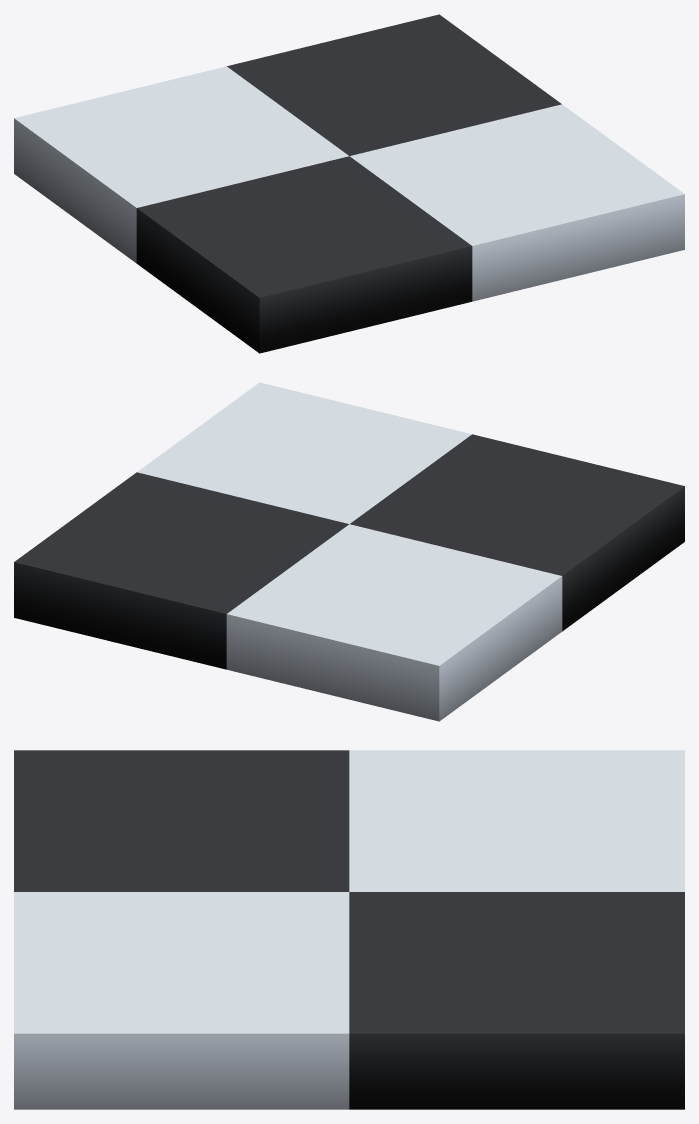
File: 2m_Floor_Checker_bw_Laundromat.fbx
3 renders of one model, top to bottom at view 1: azimuth 30°, elevation 25°; view 2: azimuth 150°, elevation 25°; view 3: azimuth 270°, elevation 25°, orthographic. The views are drawn at different scales.
Parts seen in each view (by area): view 1: 2m_Floor_Checker_bw.Laundromat; view 2: 2m_Floor_Checker_bw.Laundromat; view 3: 2m_Floor_Checker_bw.Laundromat.
Part boxes in pixels (<box>): 2m_Floor_Checker_bw.Laundromat: <box>14,14,684,353</box>; 2m_Floor_Checker_bw.Laundromat: <box>14,382,684,721</box>; 2m_Floor_Checker_bw.Laundromat: <box>14,750,684,1109</box>.
Size of the model in its own units: 200 by 25 by 200.
Materials: 1 (1 with a texture image).
